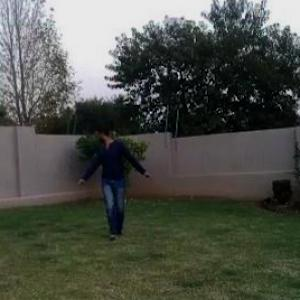land: (68, 113, 152, 247)
